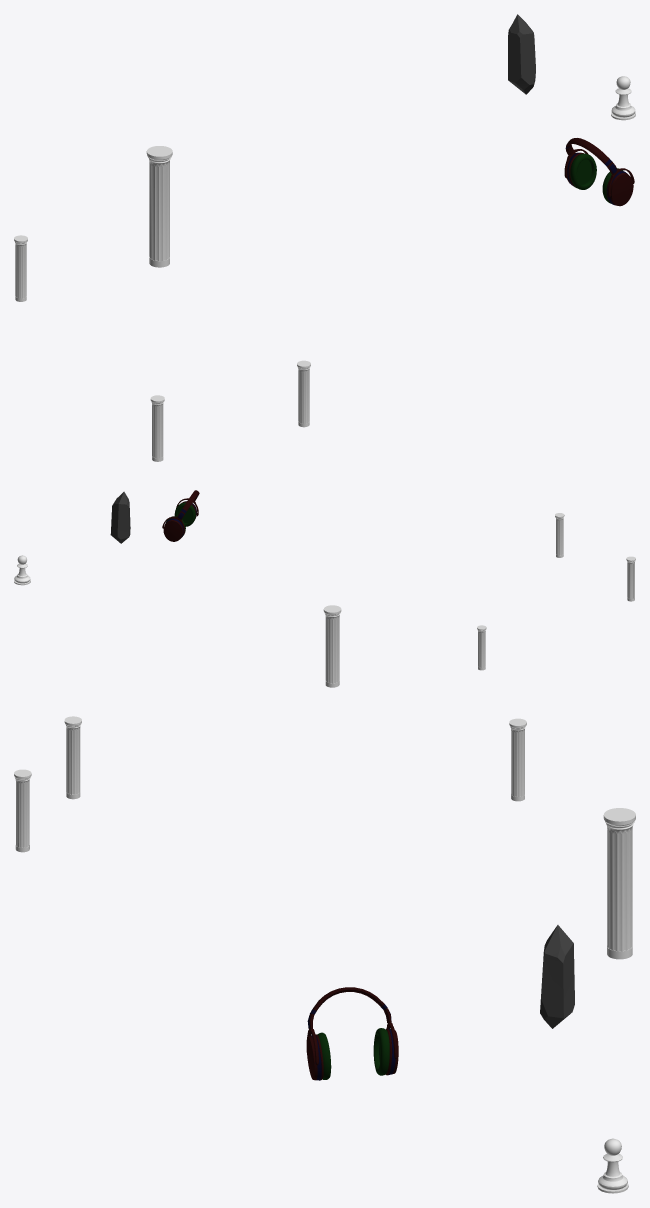
The picture shows the model from 3 angles, top to bottom: view 1: azimuth 30°, elevation 25°; view 2: azimuth 150°, elevation 25°; view 3: azimuth 270°, elevation 25°; orthographic projection. The views are drawn at different scales.
Visible parts, largest first — view 1: Column_100, HeadSet, Crystal, Column_101, Column_103, Column_102, Pawn; view 2: Column_100, HeadSet, Crystal, Column_101, Column_102, Column_103, Pawn; view 3: Column_100, HeadSet, Crystal, Column_101, Column_103, Column_102, Pawn.
Part boxes in pixels (x1,y1,x2,y2): Column_100: (146,146,172,267); HeadSet: (564,138,634,206); Crystal: (508,14,535,94); Column_101: (150,395,164,461); Column_103: (297,360,310,427); Column_102: (14,235,27,301); Pawn: (611,76,635,120); Column_100: (323,605,341,687); HeadSet: (162,490,199,541); Crystal: (110,491,130,543); Column_101: (626,556,635,601); Column_102: (477,625,486,670); Column_103: (555,513,564,557); Pawn: (14,555,30,585); Column_100: (603,808,635,959); HeadSet: (306,987,398,1080); Crystal: (540,925,574,1028); Column_101: (64,716,81,799); Column_103: (14,769,31,852); Column_102: (509,718,526,801); Pawn: (597,1138,628,1193).
Size of what is drawn, in the model's own units: 47.15 by 11.98 by 29.18.
